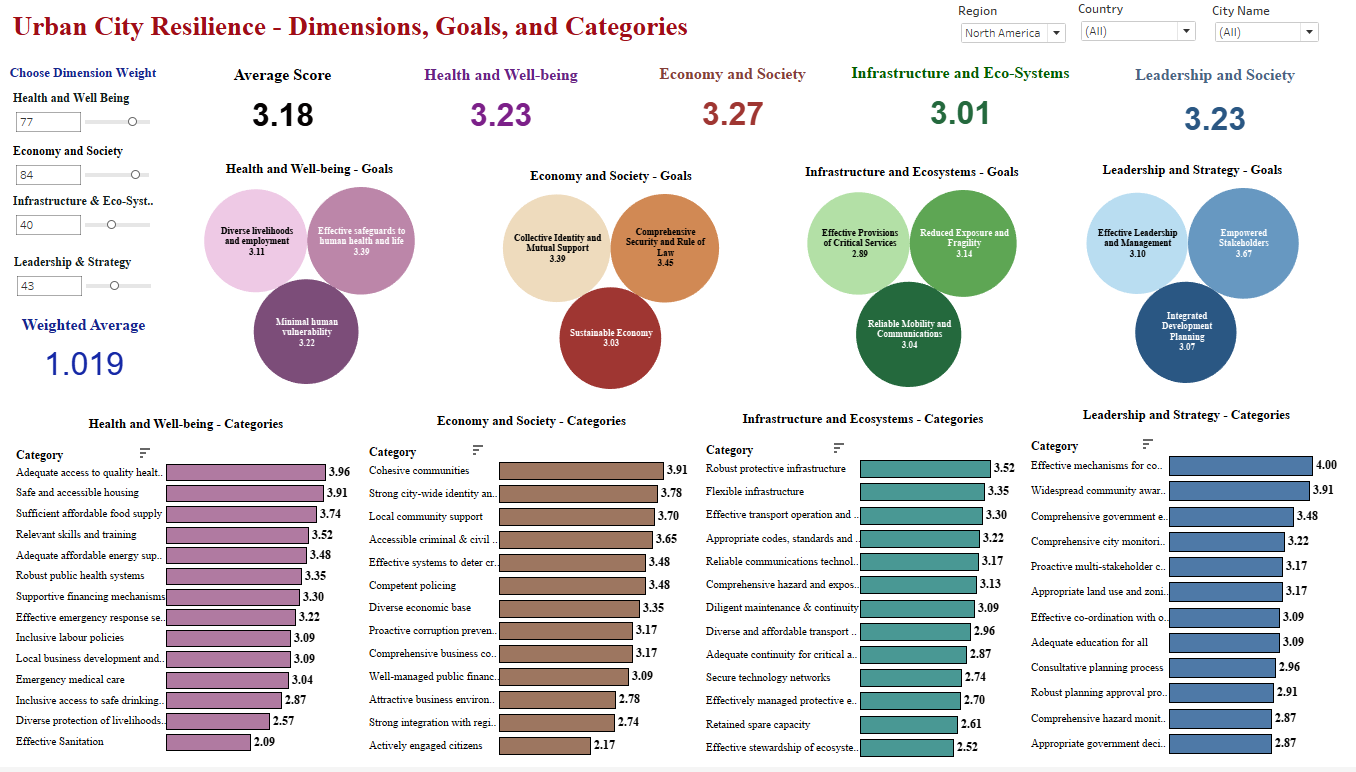

What the dashboard file says about the page in this screenshot:
{"tool":"tableau","page":{"name":"Dashboard 2","canvas":[1366,768],"ordinal":1},"visuals":[{"type":"filter","title":"Economy - Dimension","param":"[federated.10qw0gd0dw16rt1f0r8140kxbrha].[none:Country:nk]","box":[1080,1,121,45]},{"type":"filter","title":"Economy - Dimension","param":"[federated.10qw0gd0dw16rt1f0r8140kxbrha].[none:Region:nk]","box":[960,3,111,50]},{"type":"filter","title":"Economy - Dimension","param":"[federated.10qw0gd0dw16rt1f0r8140kxbrha].[none:City Name:nk]","box":[1214,3,110,43]},{"type":"title","box":[8,8,1350,38]},{"type":"text","box":[9,58,162,31]},{"type":"worksheet","title":"Infrastructure - Dimension","mark":"Text","box":[847,61,231,72]},{"type":"worksheet","title":"Economy - Dimension","mark":"Text","box":[647,62,175,72]},{"type":"worksheet","title":"Total - Dimension","mark":"Text","box":[207,63,155,73]},{"type":"worksheet","title":"Health- Dimension","mark":"Text","box":[417,63,172,72]},{"type":"worksheet","title":"Leadership-Dimension","mark":"Text","box":[1122,63,190,80]},{"type":"parameter","param":"[Parameters].[Economy Weight (copy)_2541930204380647427]","box":[15,92,140,49]},{"type":"parameter","param":"[Parameters].[Parameter 1]","box":[15,145,139,42]},{"type":"worksheet","title":"Health- Category ","mark":"Circle","box":[177,158,269,227]},{"type":"worksheet","title":"Leadership-C","mark":"Circle","box":[1058,159,273,225]},{"type":"worksheet","title":"Infrastructure-C","mark":"Circle","box":[775,161,278,227]},{"type":"worksheet","title":"Econoomy-C","mark":"Circle","box":[463,165,300,225]},{"type":"parameter","param":"[Parameters].[Health Weight (copy)_2541930204380684292]","box":[15,195,140,53]},{"type":"parameter","param":"[Parameters].[Infraastructure Weight (copy)_2541930204380762117]","box":[16,256,140,42]},{"type":"worksheet","title":"Weighted Ave","mark":"Text","box":[9,313,153,70]},{"type":"worksheet","title":"Leadership-I","mark":"Automatic","rows":["Dimension","Indicator"],"cols":["Rating"],"box":[1027,404,323,353]},{"type":"worksheet","title":"Infrastructure - I","mark":"Automatic","rows":["Dimension","Indicator"],"cols":["Rating"],"box":[702,408,326,352]},{"type":"worksheet","title":"Economy-I","mark":"Automatic","rows":["Dimension","Indicator"],"cols":["Rating"],"box":[365,410,337,348]},{"type":"worksheet","title":"Health-I","mark":"Automatic","rows":["Dimension","Indicator"],"cols":["Rating"],"box":[12,413,352,340]}]}

Visuals, with their boxes in screenshot pixels (x1, y1, x2, y2), scaled from the page's 1366x768 canvas onto the 1356x772 screenshot:
"Economy - Dimension" filter: bbox=[1072, 1, 1192, 46]
"Economy - Dimension" filter: bbox=[953, 3, 1063, 53]
"Economy - Dimension" filter: bbox=[1205, 3, 1314, 46]
title: bbox=[8, 8, 1348, 46]
text: bbox=[9, 58, 170, 89]
"Infrastructure - Dimension" worksheet (Text marks): bbox=[841, 61, 1070, 134]
"Economy - Dimension" worksheet (Text marks): bbox=[642, 62, 816, 135]
"Total - Dimension" worksheet (Text marks): bbox=[205, 63, 359, 137]
"Health- Dimension" worksheet (Text marks): bbox=[414, 63, 585, 136]
"Leadership-Dimension" worksheet (Text marks): bbox=[1114, 63, 1302, 144]
parameter: bbox=[15, 92, 154, 142]
parameter: bbox=[15, 146, 153, 188]
"Health- Category " worksheet (Circle marks): bbox=[176, 159, 443, 387]
"Leadership-C" worksheet (Circle marks): bbox=[1050, 160, 1321, 386]
"Infrastructure-C" worksheet (Circle marks): bbox=[769, 162, 1045, 390]
"Econoomy-C" worksheet (Circle marks): bbox=[460, 166, 757, 392]
parameter: bbox=[15, 196, 154, 249]
parameter: bbox=[16, 257, 155, 300]
"Weighted Ave" worksheet (Text marks): bbox=[9, 315, 161, 385]
"Leadership-I" worksheet: bbox=[1019, 406, 1340, 761]
"Infrastructure - I" worksheet: bbox=[697, 410, 1020, 764]
"Economy-I" worksheet: bbox=[362, 412, 697, 762]
"Health-I" worksheet: bbox=[12, 415, 361, 757]
